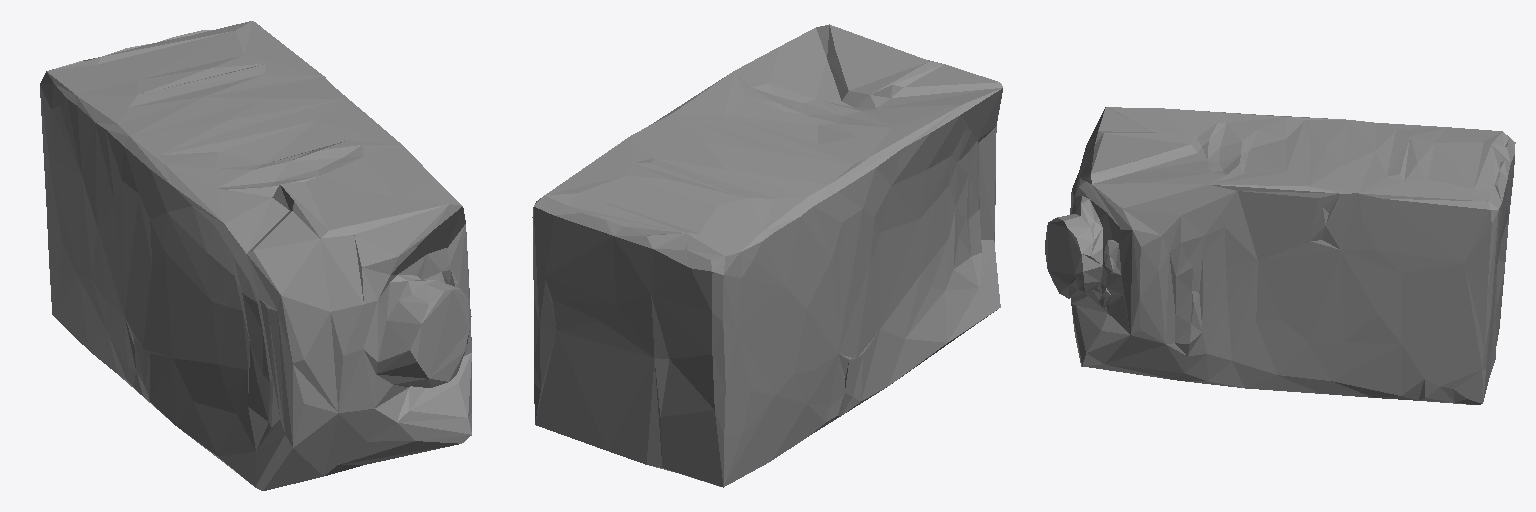
The robot description file, URDF, robot "cube.urdf":
<?xml version="0.0" ?> 
<robot name="cube.urdf"> 
<link name="legobrick"> 
<contact> 
<lateral_friction value="1.0"/>
<rolling_friction value="0.0"/>
<contact_cfm value="0.0"/>
<contact_erp value="1.0"/>
</contact> 
<inertial> 
<origin rpy="0 0 0" xyz="0.0 0.0 0.0"/> 
<mass value="0.1"/> 
<inertia ixx="1" ixy="0" ixz="0" iyy="1" iyz="0" izz="1"/> 
</inertial> 
<visual> 
<origin rpy="1.570796 0 0" xyz="-0.0010718948717948714 0.005487102564102557 -0.0020330384615384624"/> 
<geometry> 
<mesh filename="FruitDrink_800_tex.obj" scale="1 1 1"/> 
</geometry> 
<material name="yellow"> 
<color rgba="0.6 0.6 0.6 1"/> 
</material> 
</visual> 
<collision> 
<origin rpy="1.570796 0 0" xyz="-0.0010718948717948714 0.005487102564102557 -0.0020330384615384624"/> 
<geometry> 
<mesh filename="FruitDrink_800_tex_col.obj" scale="1 1 1"/> 
</geometry> 
</collision> 
</link> 
</robot>

--- Render facts (derived) ---
3 views of the same robot in one strip: view 1: azimuth 30°, elevation 25°; view 2: azimuth 150°, elevation 25°; view 3: azimuth 270°, elevation 25° (orthographic).
Robot: cube.urdf — 1 links, 0 joints (none); root link legobrick; default pose: all joints at 0.
Visible links, largest first — view 1: legobrick; view 2: legobrick; view 3: legobrick.
Link boxes in pixels (box(x1,y1,x2,y2)): legobrick: box(40, 21, 471, 490); legobrick: box(532, 24, 1002, 487); legobrick: box(1045, 107, 1515, 404).
Bounding box of the posed robot: 0.0449 × 0.0886 × 0.045 m (x, y, z).
1 mesh visuals loaded from 1 distinct referenced files (1 OBJ).